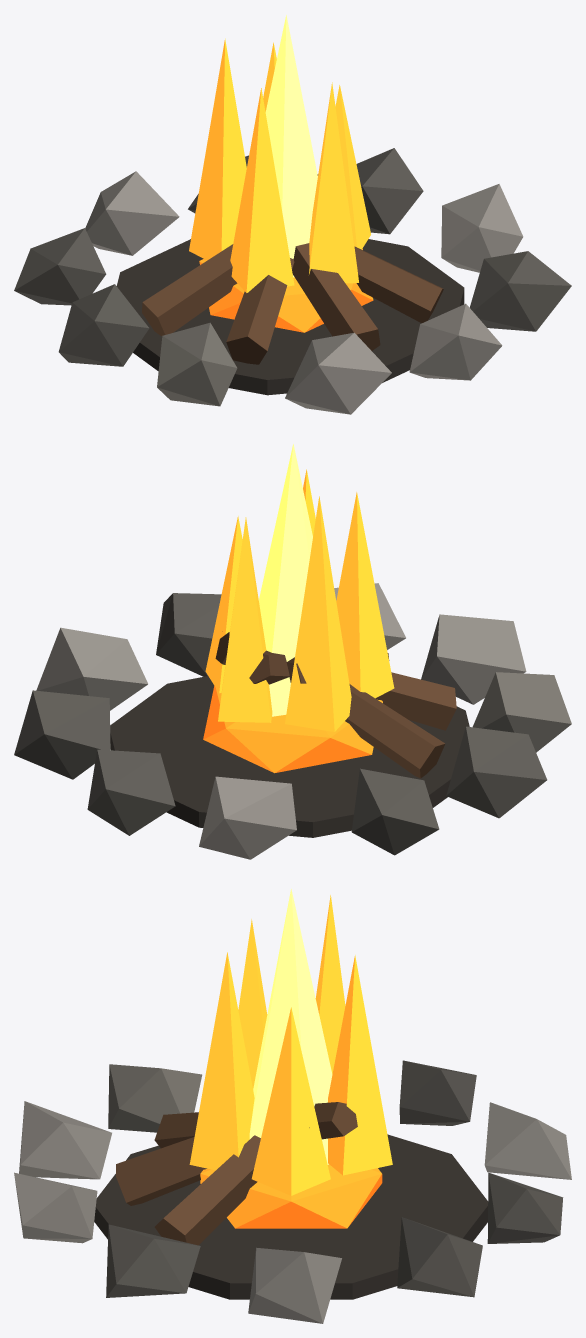
File: forest_firepit.glb
3 renders of one model, top to bottom at view 1: azimuth 30°, elevation 25°; view 2: azimuth 150°, elevation 25°; view 3: azimuth 270°, elevation 25°, orthographic. The views are drawn at different scales.
Parts seen in each view (by area): view 1: forest_firepit; view 2: forest_firepit; view 3: forest_firepit.
Boxes of the visible parts, left/top/right/bottom form: forest_firepit: left=14, top=15, right=571, bottom=414; forest_firepit: left=14, top=444, right=571, bottom=859; forest_firepit: left=14, top=889, right=571, bottom=1323.
Bounding box in the file's own units: 1.94 × 1.2 × 1.83.
